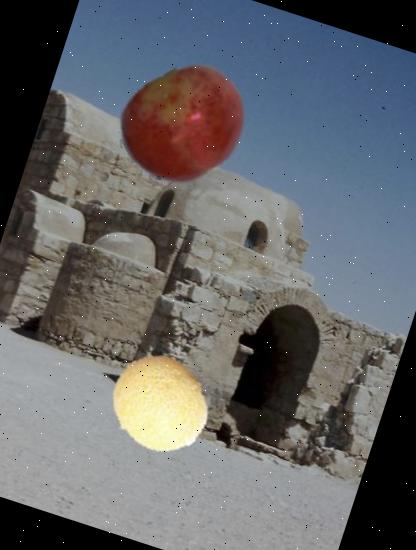Cantaloupe: (94, 340, 223, 470)
Cherry: (103, 45, 264, 206)
